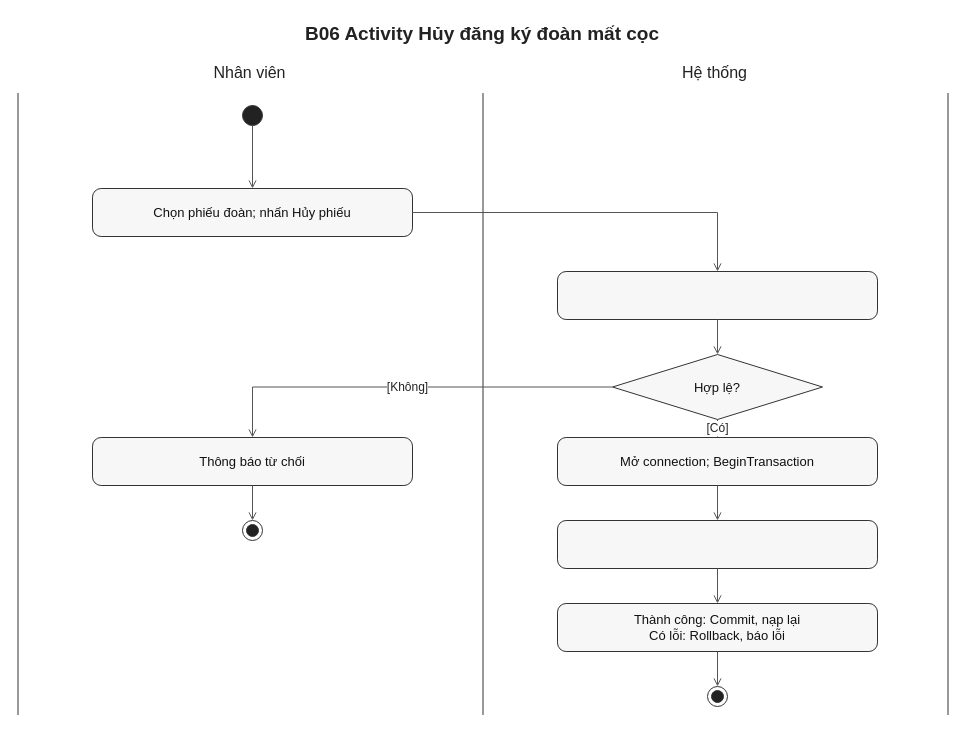
This 966x732 diagram has some shape labels left out. The shapes that lost their labels are listed below. From the top down, each one's box as (x1, y1, x2, y2) in pixels, then its label:
(556, 270, 878, 320): Đọc phiếu; kiểm tra trạng thái và ngày đi sau ngày hiện tại
(556, 520, 878, 568): DELETE PhanCongHDV của đoàn; UPDATE Hủy - mất cọc; giữ nguyên TienCoc
